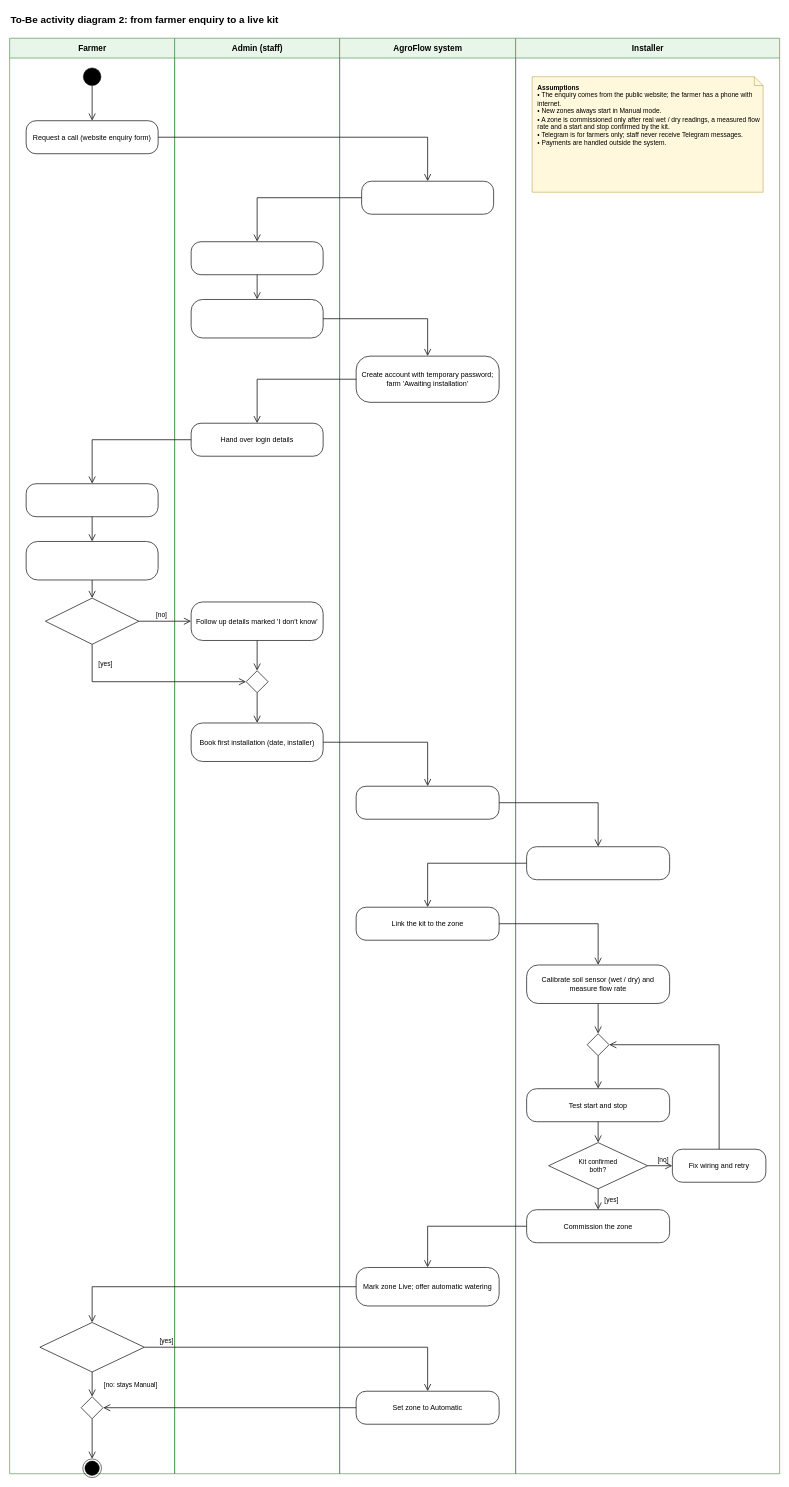
Image size: 789x1487. Some labels were removed from this diagram. The shapes that lost their labels are listed below. From the top down, each one's centre as x and y in pixels, then its label:
At (x=427, y=197): "Record enquiry and notify staff".
At (x=256, y=258): "Claim the enquiry and call the farmer".
At (x=256, y=318): "Onboard farmer: contact, farm location, zones".
At (x=91, y=500): "Sign in and set own password".
At (x=91, y=560): "Complete 4 tasks: preferences, farm, water, crops".
At (x=92, y=620): "All details known?".
At (x=427, y=802): "Create one-time enrollment code (24 h)".
At (x=598, y=863): "Connect kit to Wi-Fi and enter the code".
At (x=92, y=1347): "Turn on automatic watering?".
